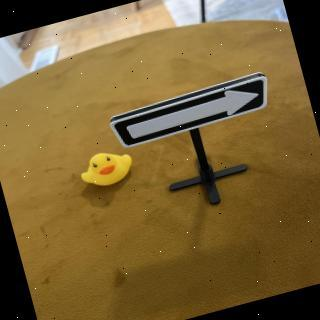duck_regular: (77, 144, 140, 195)
sign_oneway_right: (108, 74, 278, 153)
